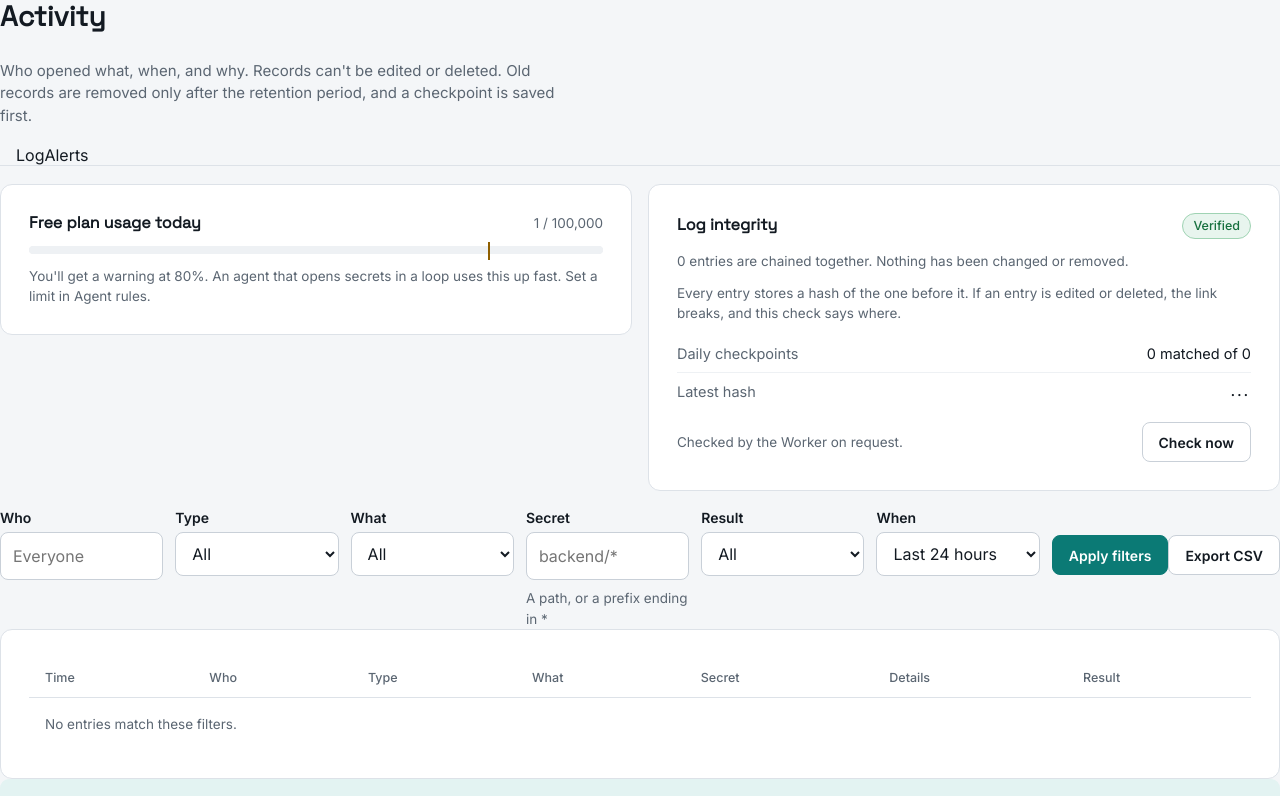
Test: Activity › rejects a path that is not a path before sending
Type "back end/*" into the field with id "f-path". click: (608, 556)
box: [526,532,689,580]
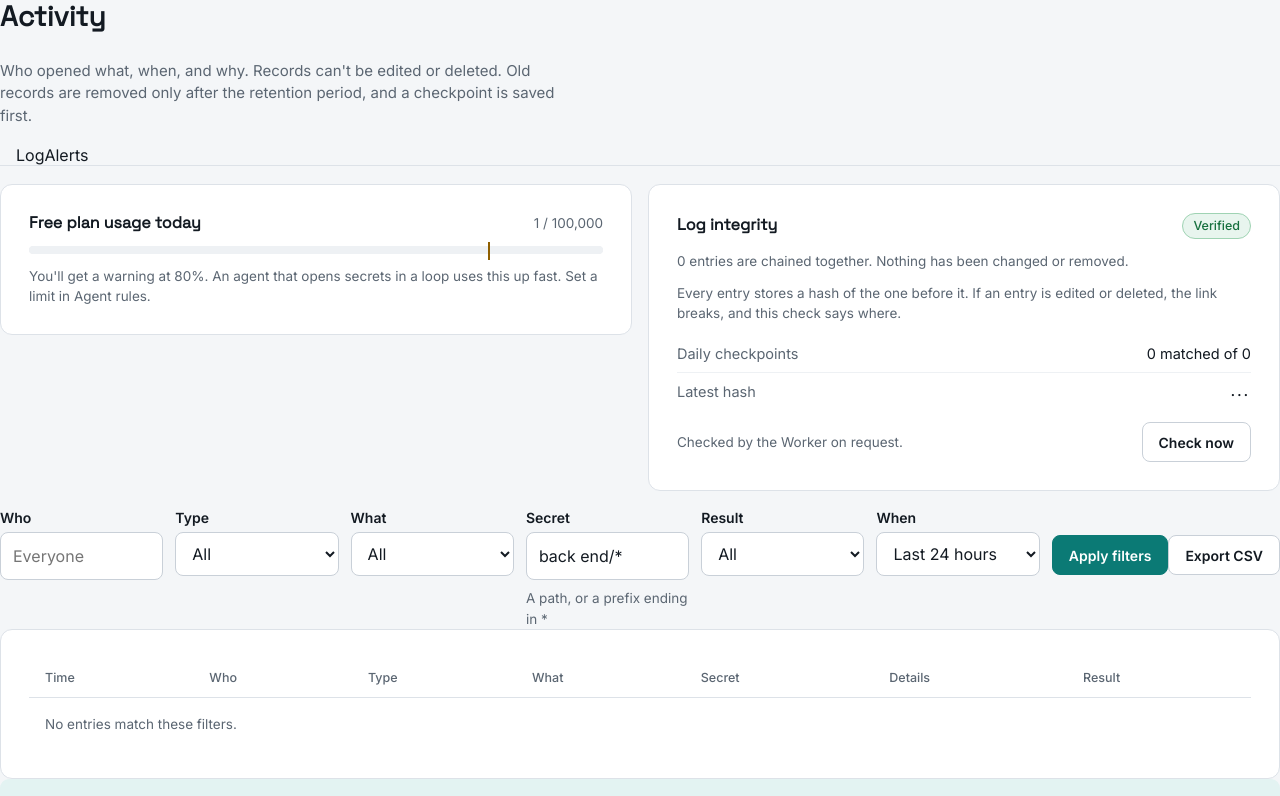
Submit the form with class "filters", box [0,509,1279,629]
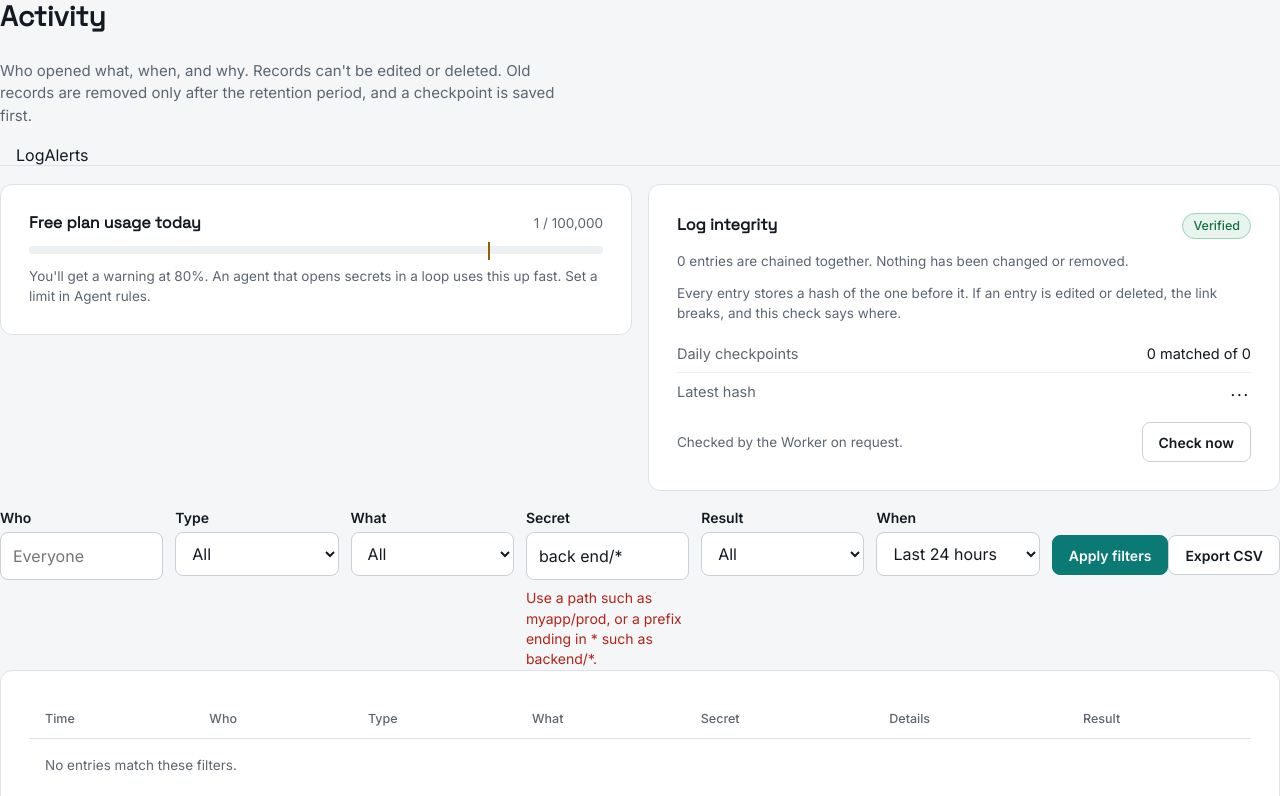
Check: the text "Use a path such as myapp/prod" is shown, box [526,589,682,667]
